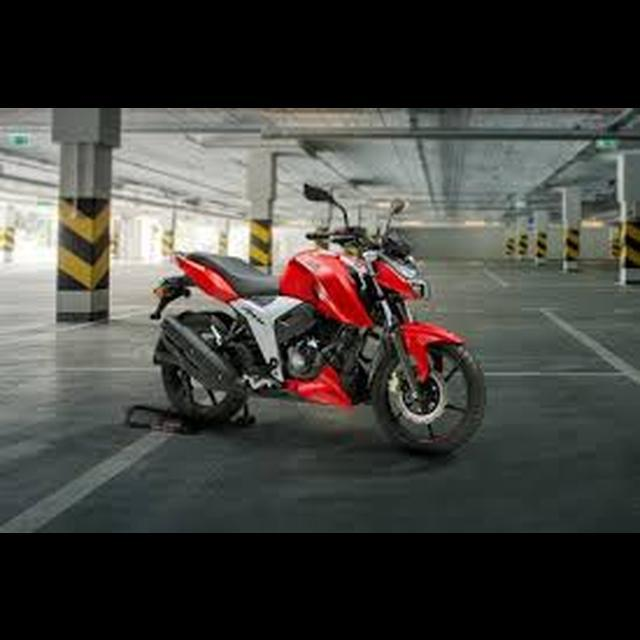motorcycle: (147, 179, 491, 464)
